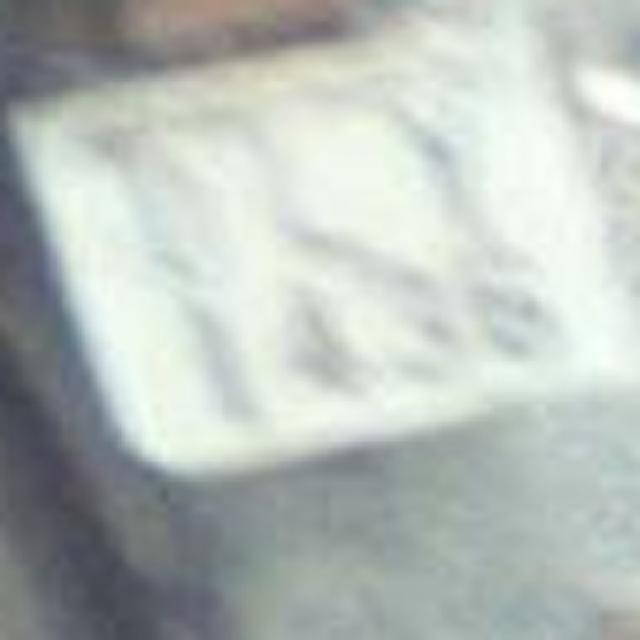1: (144, 252, 268, 436)
5: (335, 249, 480, 396)
6: (448, 228, 580, 392)
D: (100, 120, 245, 285)
T: (372, 68, 520, 272)
Z: (364, 64, 504, 236), (225, 92, 360, 248)
